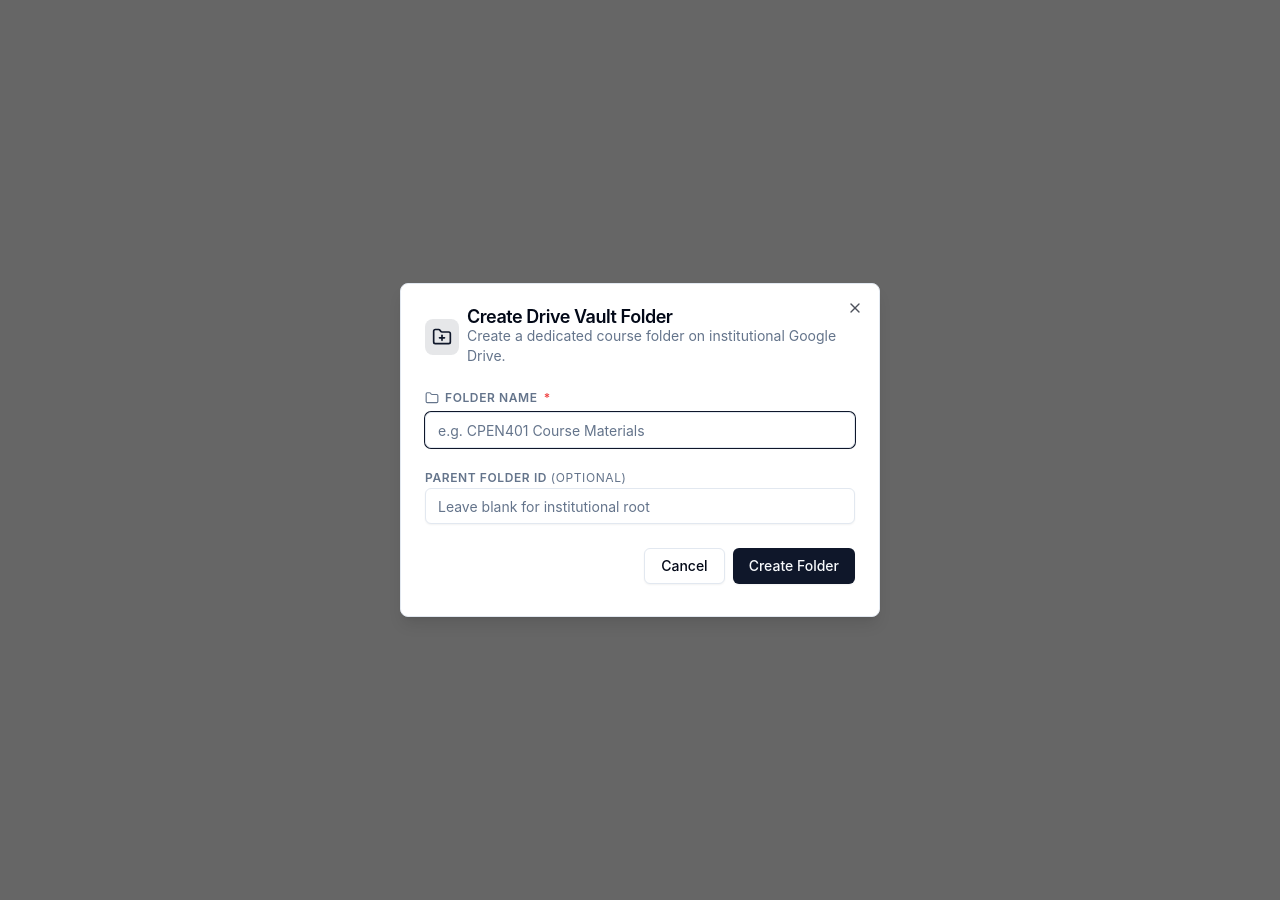
Test: Google Vault Dialogs and Components › CreateFolderDialog › submits folder creation and displays generated folder ID
In the field with placeholder "e.g. CPEN401 Course Materials": (640, 430) [425,412,855,448], type "CPEN401 Materials"
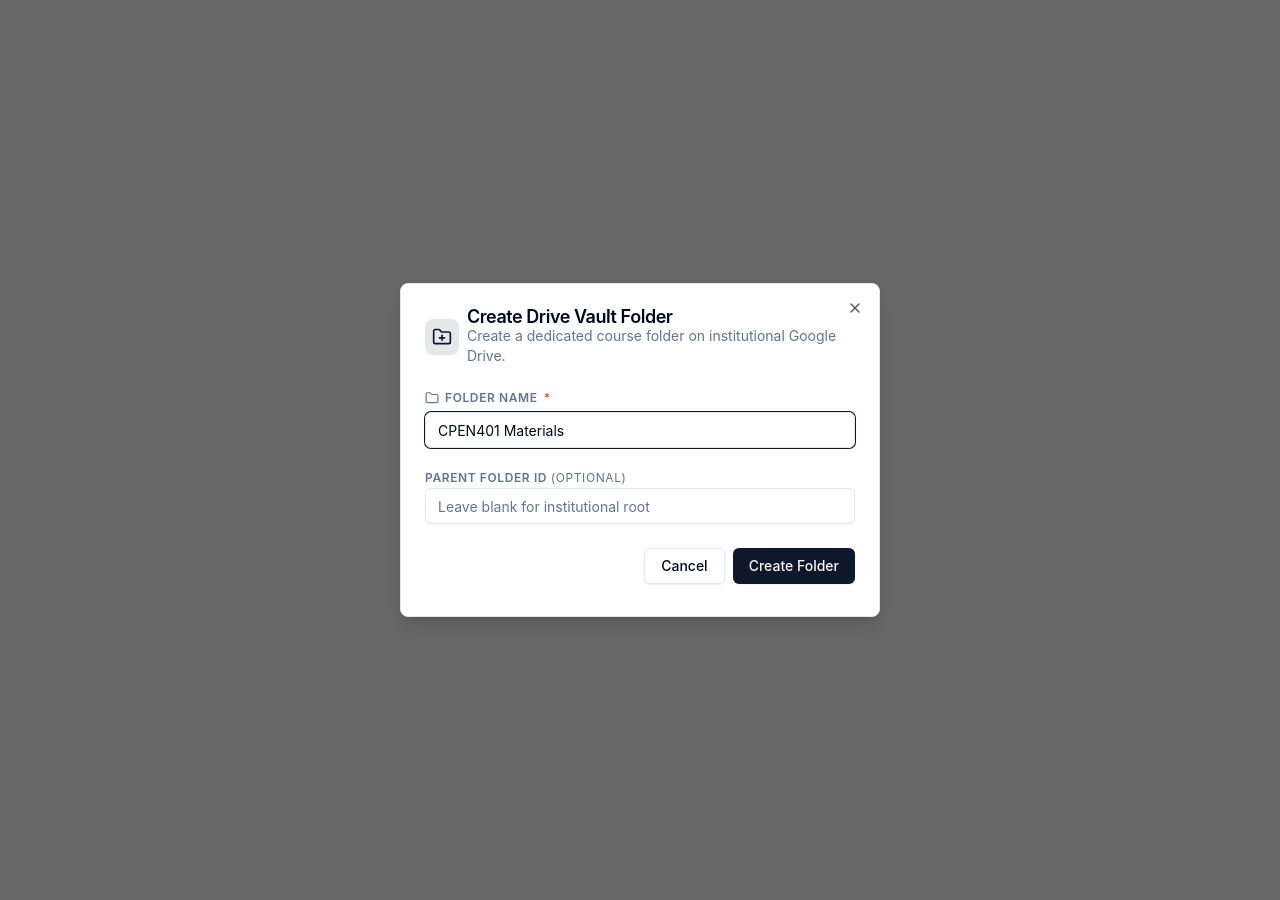
Click the button "Create Folder": (794, 566) [733,548,855,584]
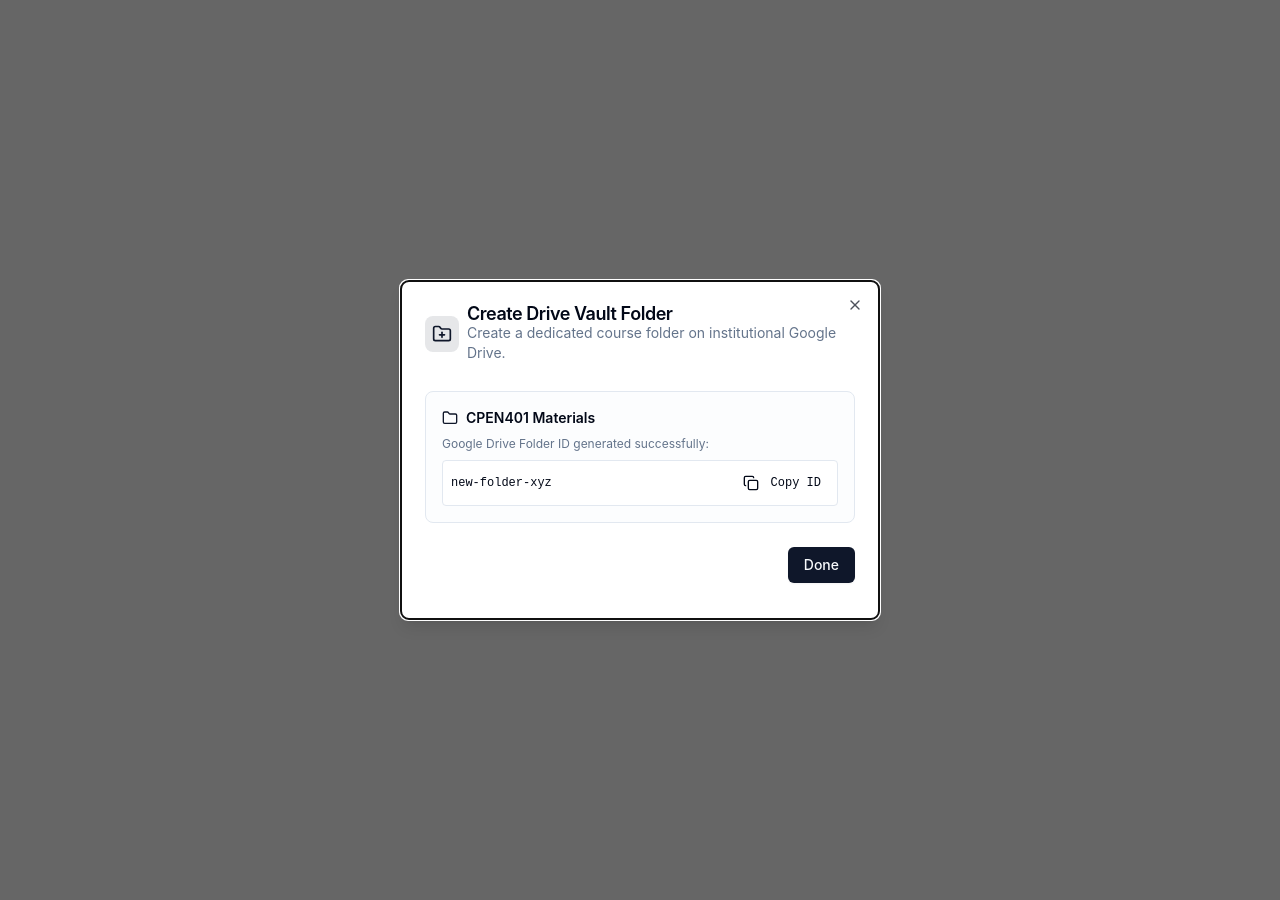
Expected: the text "new-folder-xyz" is shown, [451,475,552,491]
Expected: the button "Copy ID" is shown, [735,469,829,497]
